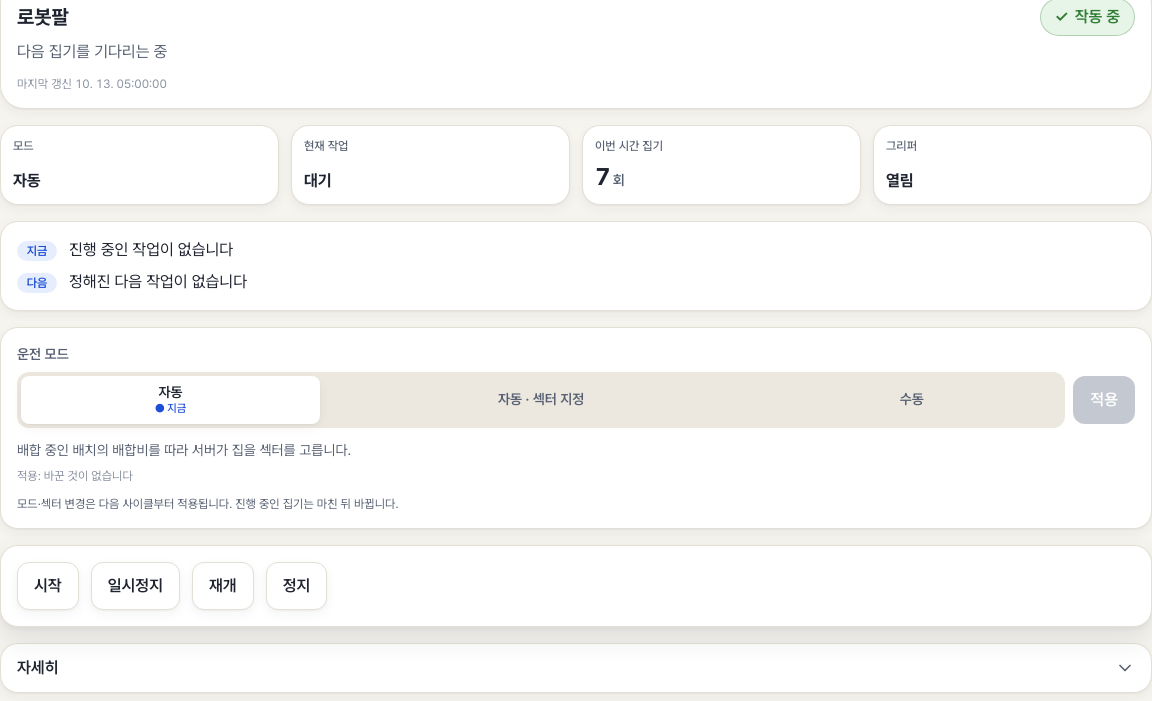
Test case: RobotPage › 진단: 연결은 되어 있는데 관절 값이 3초 넘게 안 오면 늦어진다고 알린다
What coordinates should you click on to do the following:
click the button "자세히"
I would click on:
 (38, 668)
Its box is [1,644,1151,692].
Wait 4000 ms
(page scrolled)
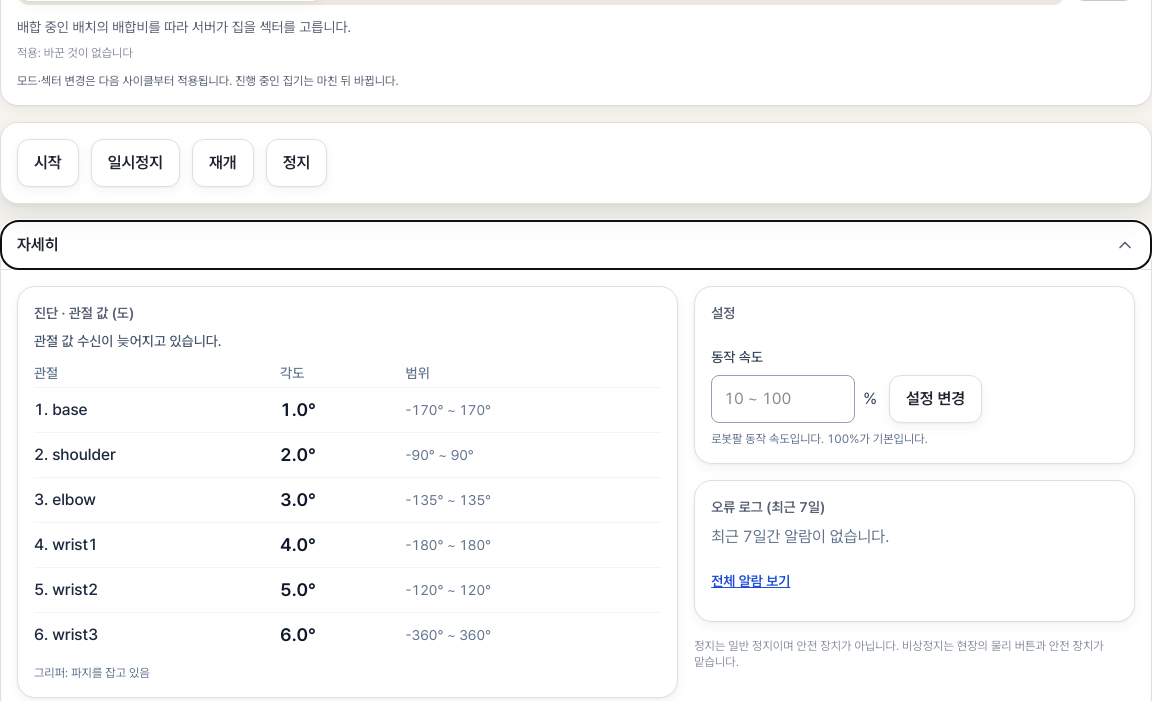
Expected: the message shows "수신이 늦어지고", [34,333,222,349]
